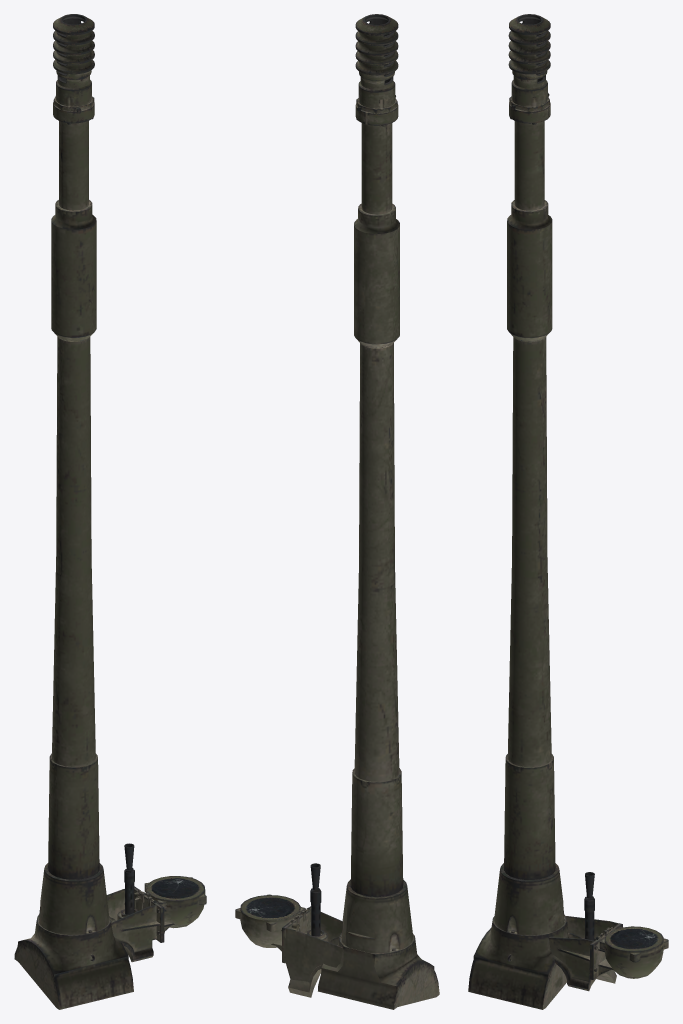
The model's file is Gun_01.glb.
3 views of the same model, side by side, from view 1: azimuth 30°, elevation 25°; view 2: azimuth 150°, elevation 25°; view 3: azimuth 330°, elevation 25° (orthographic).
Visible parts, largest first — view 1: set_0_group_0; view 2: set_0_group_0; view 3: set_0_group_0.
Boxes of the visible parts, box(x1,y1,x2,y2) form: set_0_group_0: box(14, 14, 206, 1009); set_0_group_0: box(235, 14, 439, 1009); set_0_group_0: box(468, 14, 668, 1009).
Bounding box in the file's own units: 1.1 × 6.05 × 0.5132.
1 material, 1 textured.
